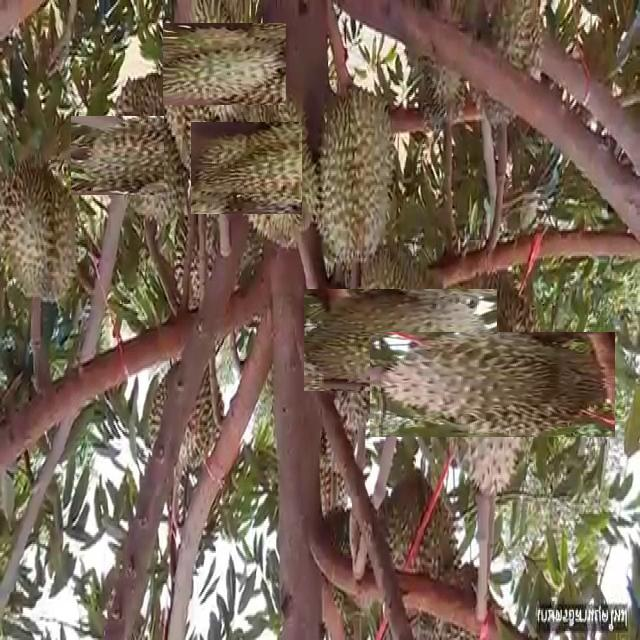durian: (405, 297, 580, 472), (326, 266, 474, 414), (302, 72, 400, 269), (209, 103, 339, 232), (91, 95, 213, 217), (164, 42, 250, 204), (2, 153, 84, 308), (139, 359, 229, 485), (173, 12, 275, 115), (402, 2, 479, 130), (474, 8, 546, 138)
